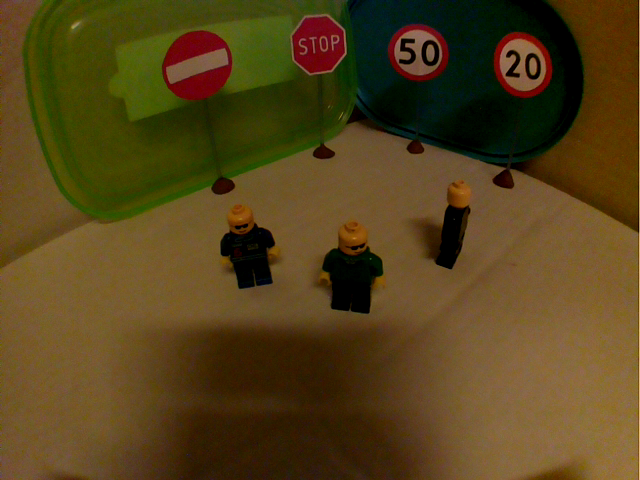Ograniczenie 20: (487, 28, 556, 100)
Ograniczenie 50: (385, 21, 452, 83)
Postac LEGO: (314, 218, 389, 321), (215, 201, 282, 292), (428, 178, 477, 274)
Stop: (286, 10, 350, 80)
Zakaz: (158, 26, 237, 105)
